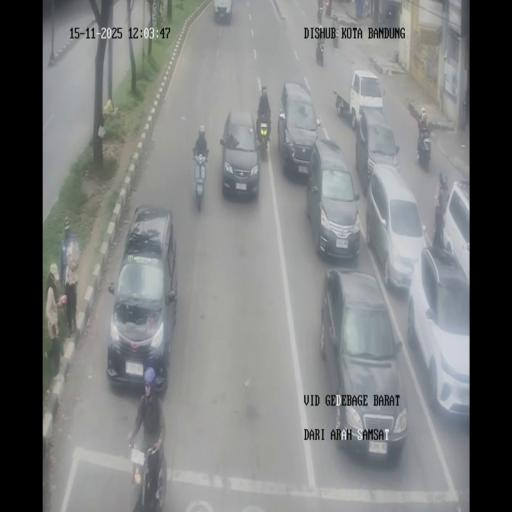3: (330, 60, 380, 130)
car: (321, 269, 405, 457), (106, 206, 178, 388), (366, 164, 426, 292), (306, 138, 359, 260), (278, 81, 318, 177), (356, 106, 400, 193), (220, 109, 261, 199), (441, 179, 469, 297), (213, 0, 233, 25)
truck: (129, 434, 166, 511), (192, 151, 208, 209), (255, 112, 271, 160), (417, 127, 431, 169), (315, 40, 324, 65), (332, 20, 340, 48), (362, 0, 371, 18), (385, 6, 394, 24), (317, 2, 324, 24), (379, 5, 386, 24), (325, 0, 332, 17)
